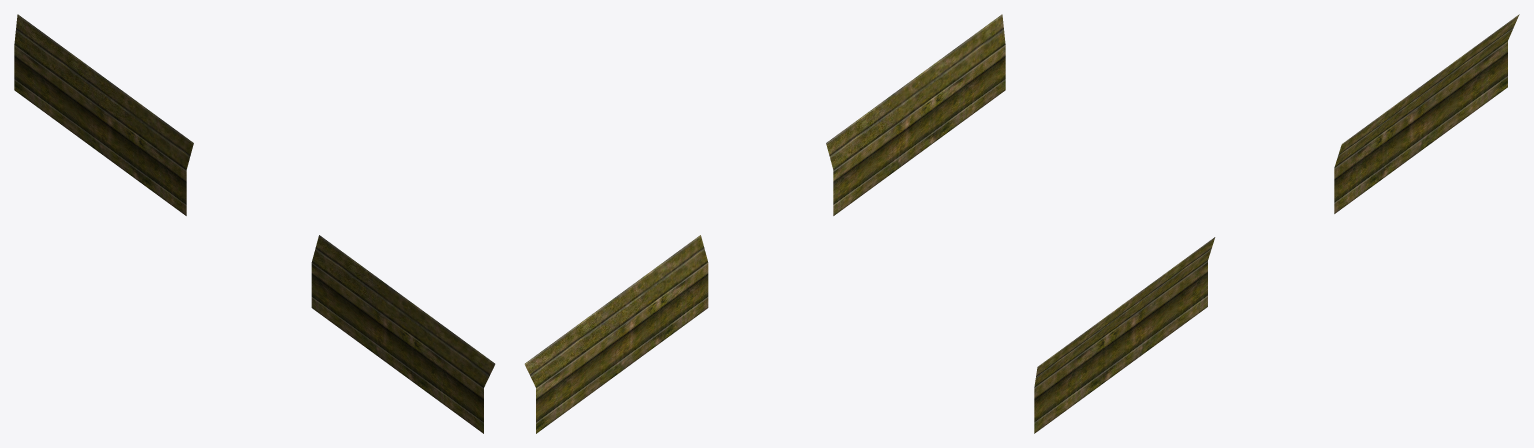
File: OVERHILL_A_01_OBJECT315.fbx
3 views of the same model, side by side, from view 1: azimuth 30°, elevation 25°; view 2: azimuth 150°, elevation 25°; view 3: azimuth 330°, elevation 25° (orthographic).
Visible parts, largest first — view 1: OVERHILL_A_01_OBJECT315; view 2: OVERHILL_A_01_OBJECT315; view 3: OVERHILL_A_01_OBJECT315.
Part boxes in pixels (left/top/right/bottom): OVERHILL_A_01_OBJECT315: left=14, top=14, right=495, bottom=433; OVERHILL_A_01_OBJECT315: left=524, top=14, right=1005, bottom=433; OVERHILL_A_01_OBJECT315: left=1034, top=14, right=1519, bottom=433.
Size of the model in its own units: 1348 by 12361 by 149972.
Materials: 2 (2 with a texture image).
